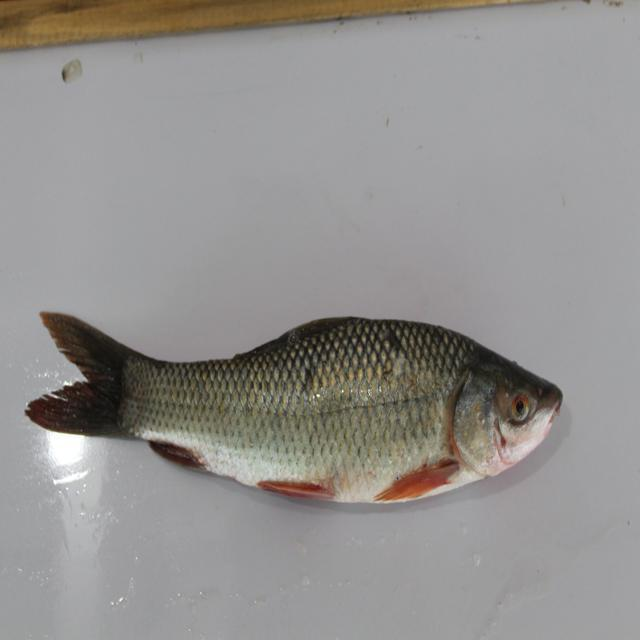Rohu: (29, 298, 581, 500)
